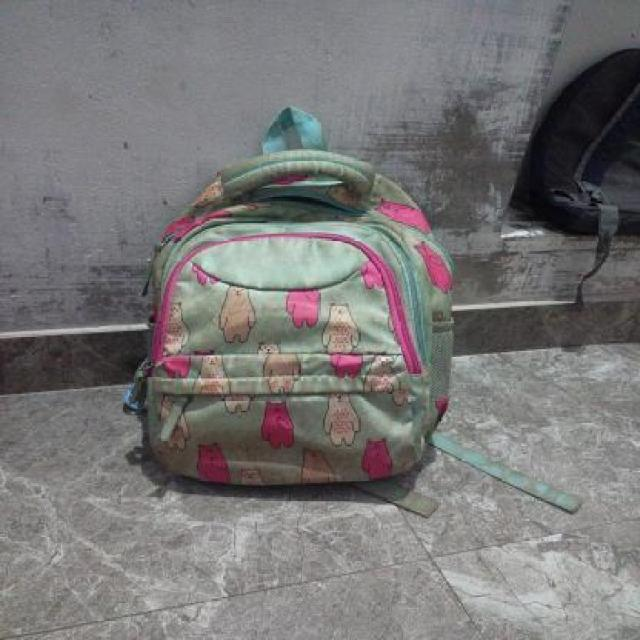backpack: (117, 101, 458, 492)
